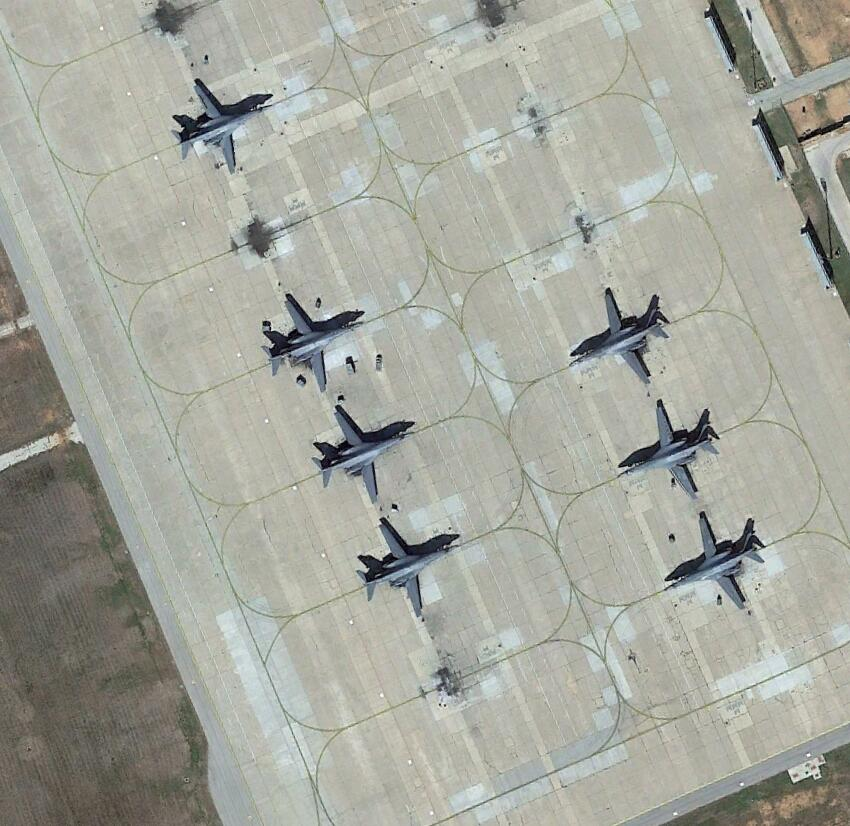A10: (250, 283, 365, 394), (352, 515, 465, 618), (614, 400, 724, 501), (168, 77, 276, 178), (665, 511, 769, 614), (567, 284, 671, 385), (307, 407, 418, 501)
